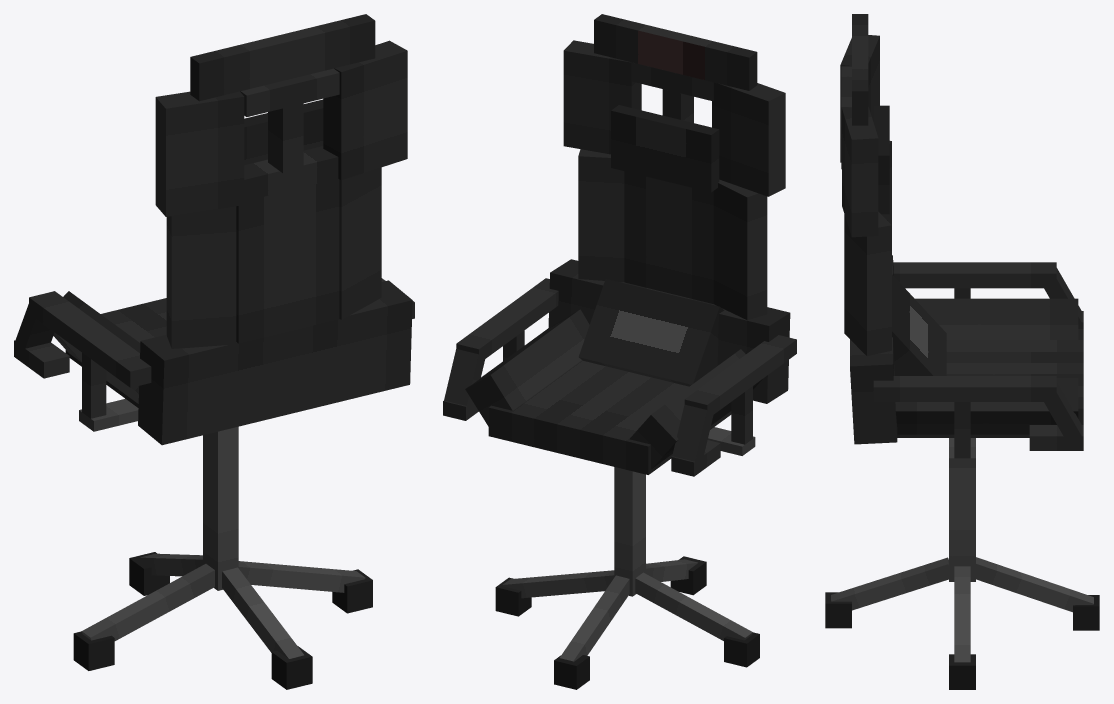
File: simple-gaming-chair-minecraft.obj
3 views of the same model, side by side, from view 1: azimuth 30°, elevation 25°; view 2: azimuth 150°, elevation 25°; view 3: azimuth 270°, elevation 25° (orthographic). The views are drawn at different scales.
Parts seen in each view (by area): view 1: obj12, obj19, obj15, obj20, obj14, obj11, obj10, obj8, obj28, obj3, obj17, obj16 (+15 smaller); view 2: obj32, obj34, obj19, obj15, obj13, obj20, obj11, obj14, obj12, obj10, obj33, obj8 (+18 smaller); view 3: obj31, obj32, obj10, obj33, obj24, obj28, obj14, obj34, obj12, obj8, obj1, obj4 (+13 smaller).
Boxes of the visible parts, x1=… form: obj12: x1=138, y1=280, x2=412, y2=445; obj19: x1=236, y1=178, x2=339, y2=343; obj15: x1=155, y1=91, x2=244, y2=216; obj20: x1=166, y1=206, x2=236, y2=348; obj14: x1=323, y1=40, x2=407, y2=180; obj11: x1=190, y1=14, x2=375, y2=101; obj10: x1=339, y1=167, x2=381, y2=319; obj8: x1=203, y1=426, x2=238, y2=590; obj28: x1=29, y1=291, x2=151, y2=387; obj3: x1=81, y1=564, x2=214, y2=640; obj17: x1=244, y1=146, x2=338, y2=201; obj16: x1=240, y1=68, x2=339, y2=116; obj32: x1=488, y1=360, x2=731, y2=474; obj34: x1=578, y1=279, x2=724, y2=386; obj19: x1=624, y1=171, x2=713, y2=303; obj15: x1=712, y1=82, x2=785, y2=196; obj13: x1=611, y1=105, x2=719, y2=192; obj20: x1=713, y1=179, x2=767, y2=320; obj11: x1=594, y1=14, x2=757, y2=90; obj14: x1=563, y1=40, x2=641, y2=154; obj12: x1=548, y1=259, x2=790, y2=403; obj10: x1=578, y1=149, x2=624, y2=282; obj33: x1=465, y1=309, x2=589, y2=426; obj8: x1=614, y1=467, x2=645, y2=596; obj31: x1=915, y1=298, x2=1078, y2=339; obj32: x1=897, y1=329, x2=1083, y2=437; obj10: x1=844, y1=212, x2=891, y2=355; obj33: x1=895, y1=378, x2=1078, y2=434; obj24: x1=873, y1=376, x2=1056, y2=401; obj28: x1=893, y1=262, x2=1056, y2=288; obj14: x1=842, y1=107, x2=878, y2=237; obj34: x1=892, y1=274, x2=946, y2=375; obj12: x1=850, y1=255, x2=897, y2=444; obj8: x1=949, y1=468, x2=975, y2=581; obj1: x1=976, y1=557, x2=1093, y2=612; obj4: x1=831, y1=557, x2=948, y2=610.
Bounding box in the file's own units: 0.3438 × 0.7375 × 0.3188.
1 material, 1 textured.
